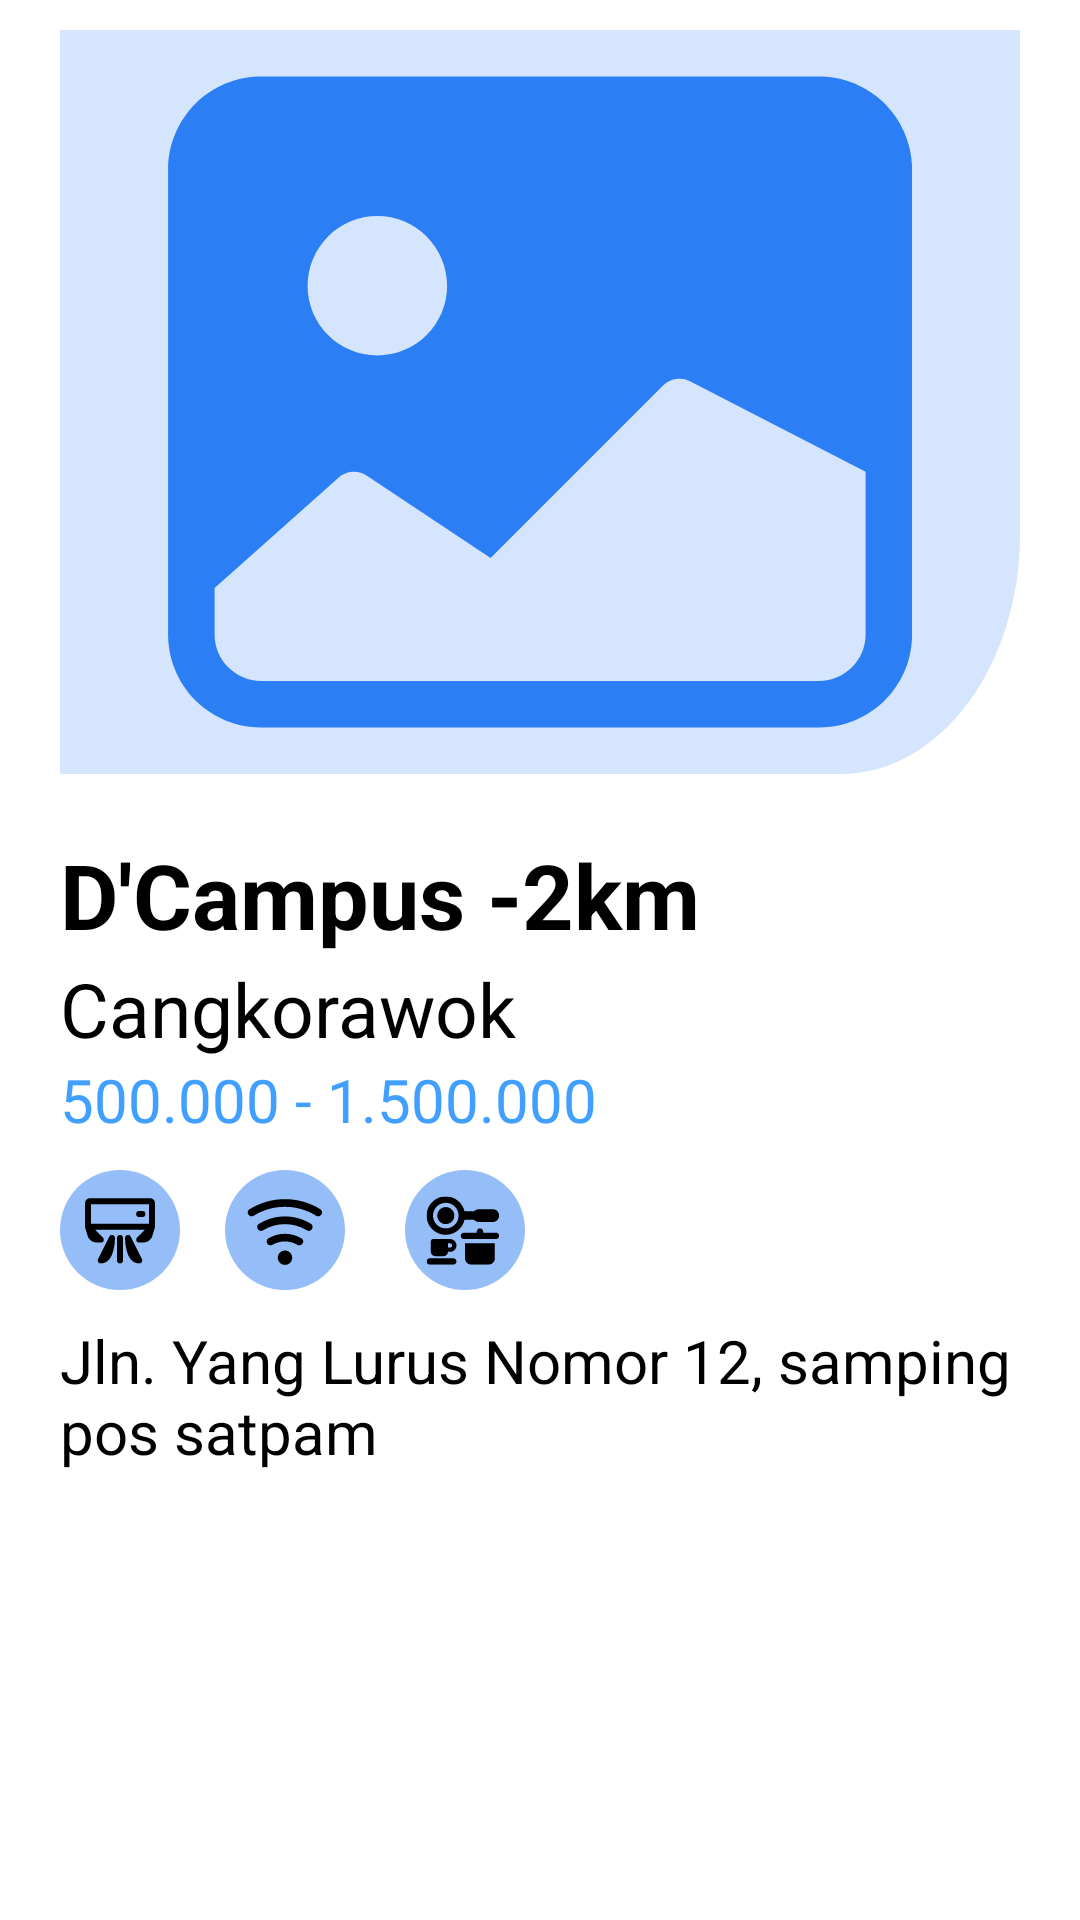

Icons on this 1080x1920 Android screen, each with its box as (x1, y1, x2, y2):
dapur: (405, 1170, 525, 1290)
wifi: (225, 1170, 345, 1290)
